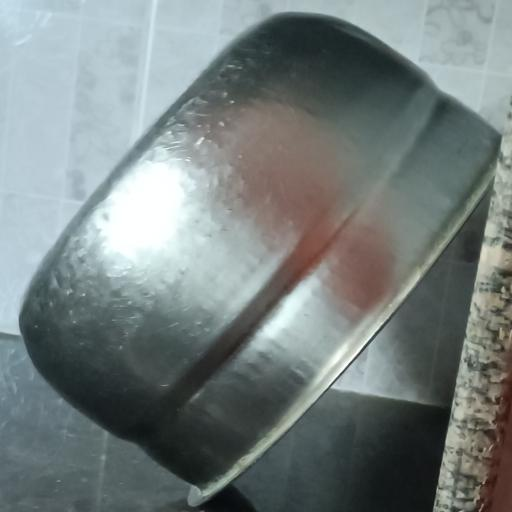vessel: (20, 14, 498, 497)
